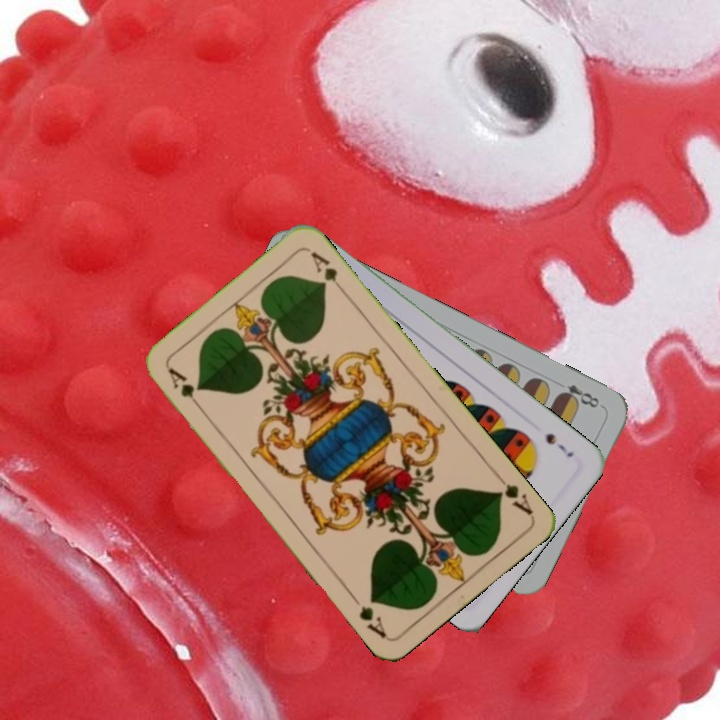E8: (553, 380, 602, 411)
GA: (491, 469, 536, 518), (164, 363, 206, 413)
S7: (541, 429, 576, 460)
